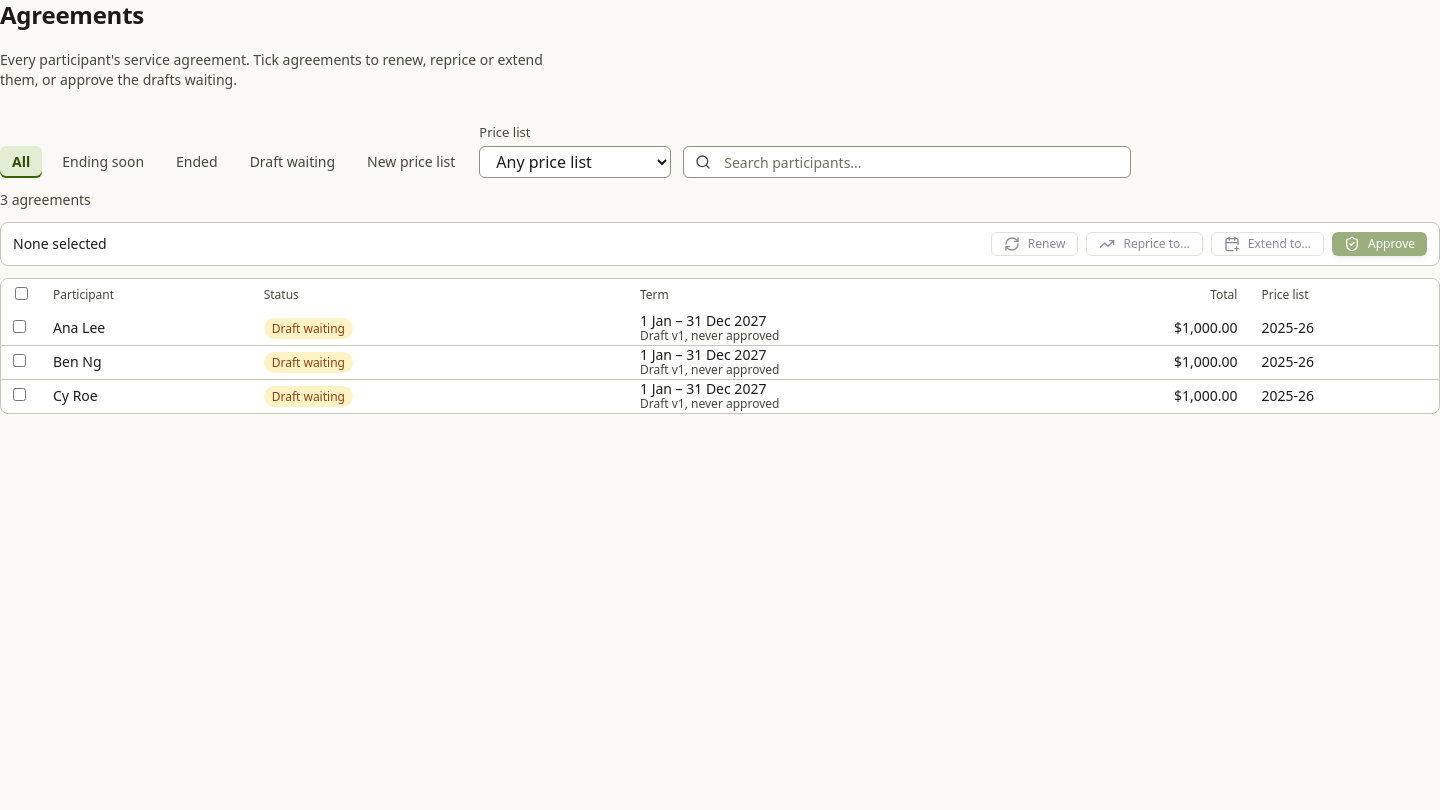
Scenario: AgreementsPage approve (real hook) › lists an approved one that was not moved to Active with its reason, and refreshes every participant in the run
Expected: the text "Ana Lee" is shown, [53,318,105,337]
Click the checkbox named "Select row p1" at [20, 326], box [13,320,26,333]
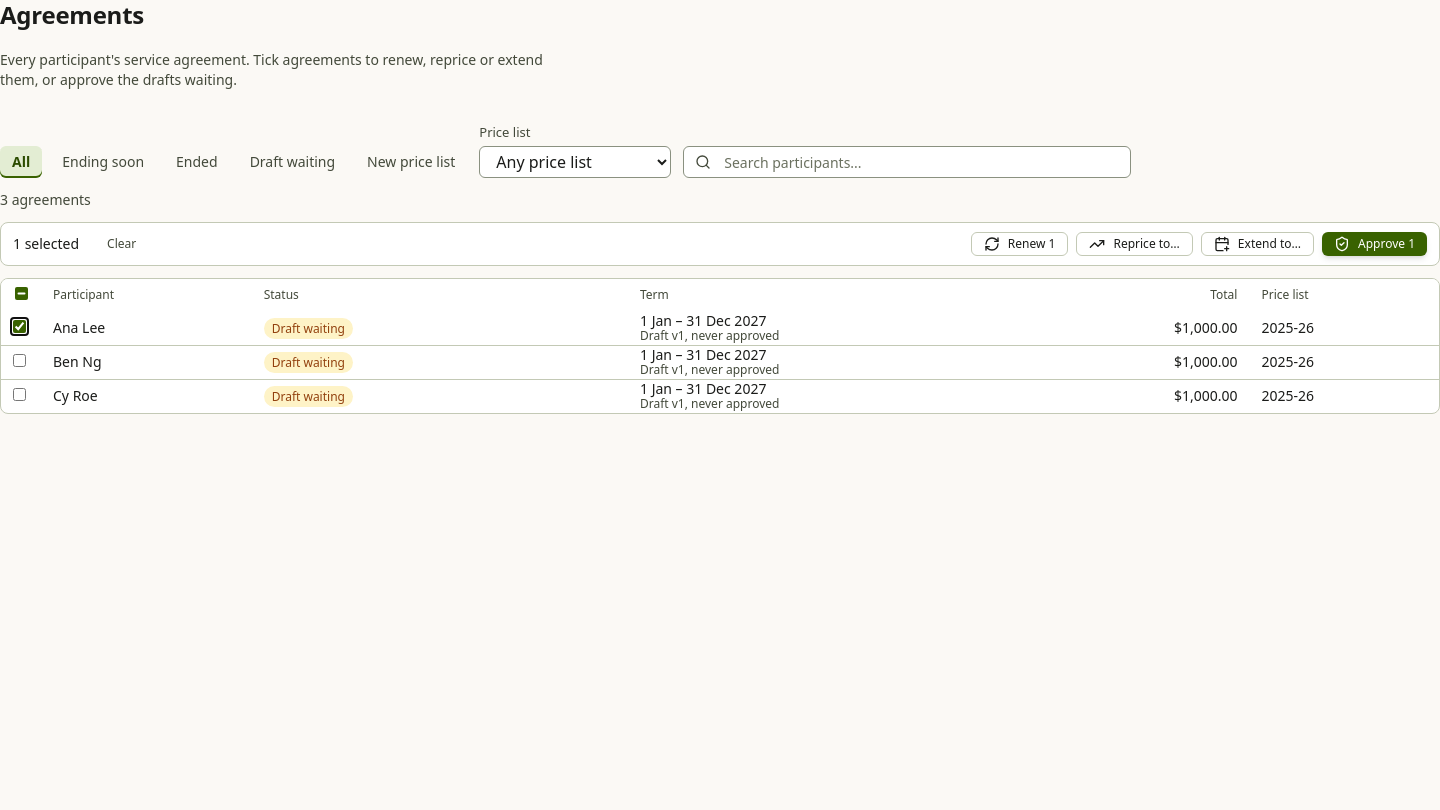
Click the checkbox named "Select row p2" at [20, 361], box [13,354,26,367]
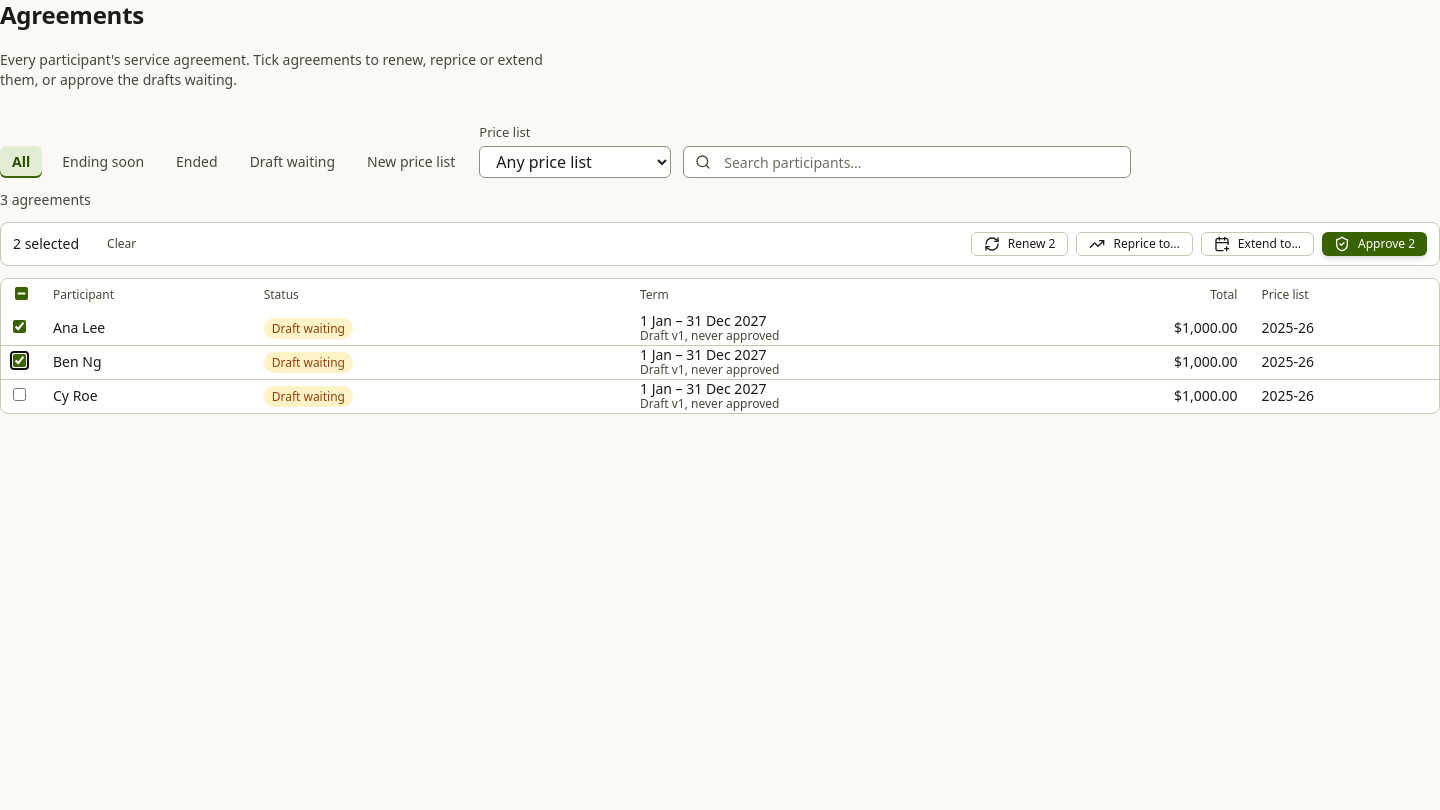
Click the button "Approve 2" at [1374, 244], box [1322,232,1427,256]
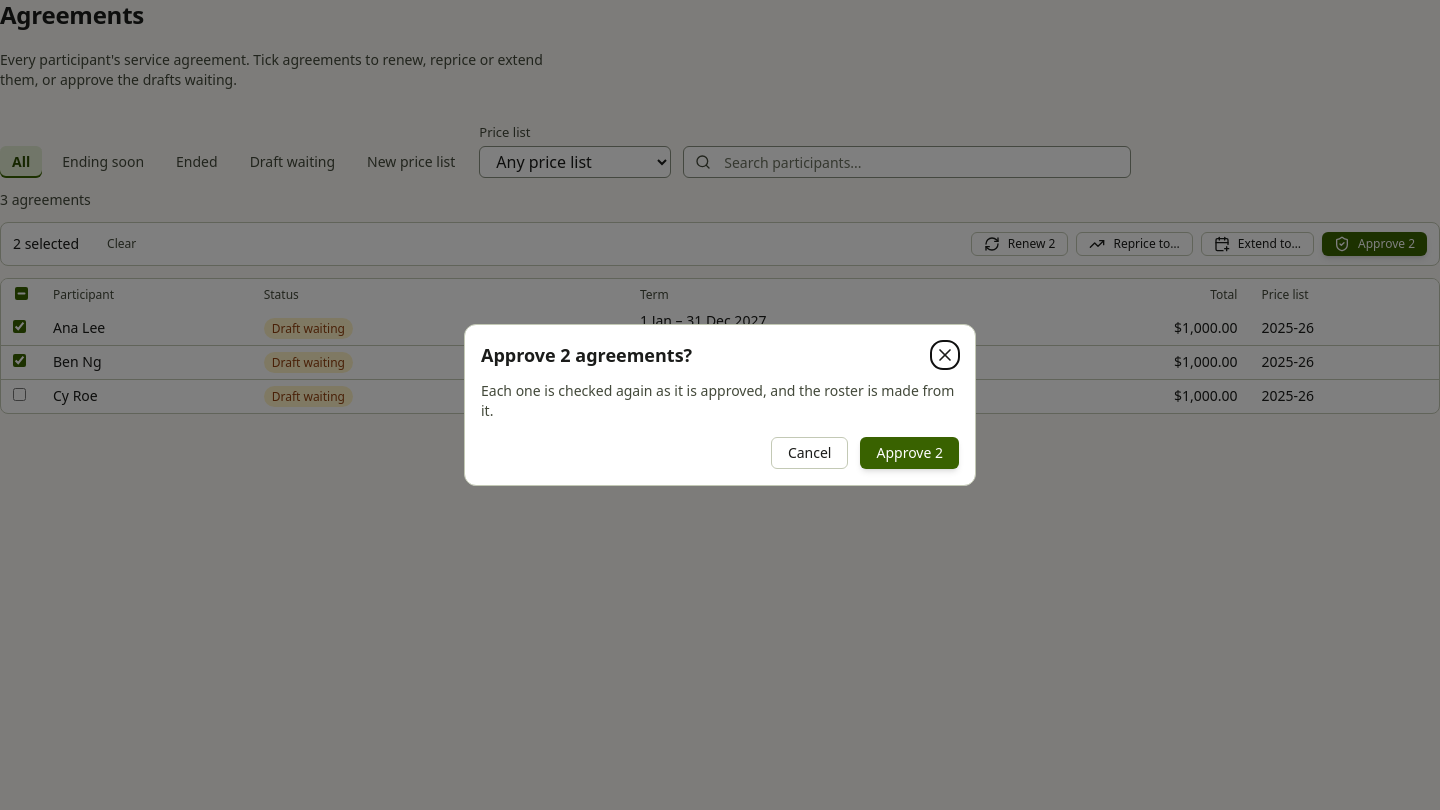
Click the button "Approve 2" at [910, 453], box [860,437,959,469]
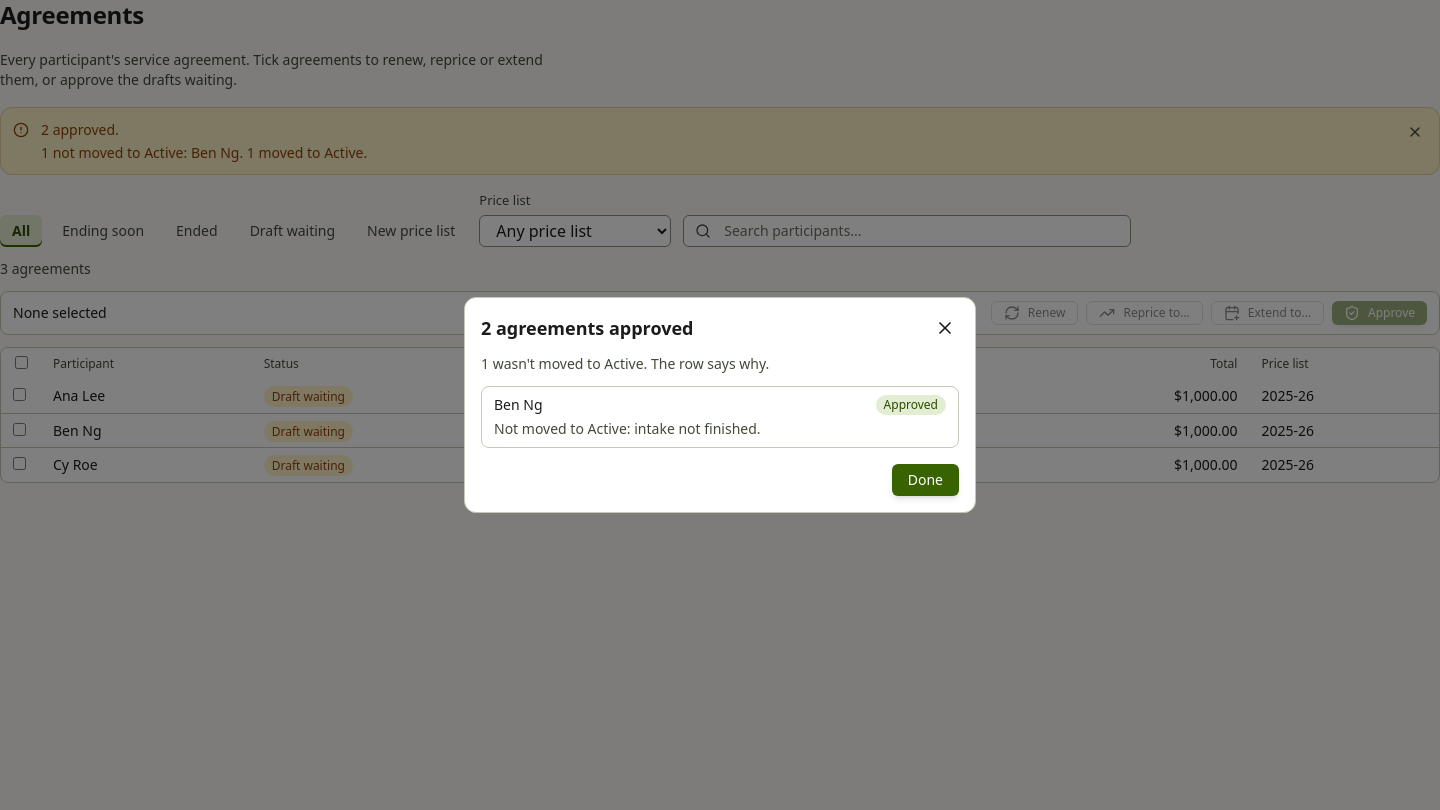
Expected: the text "1 wasn't moved to Active. The row says why." is shown, [481,354,769,373]
Expected: the number of list items is 1, [482,387,958,447]
Expected: the text "Ben Ng" is shown, [494,395,542,415]
